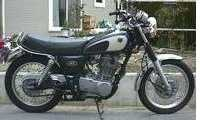motorcycle: (2, 10, 194, 115)
